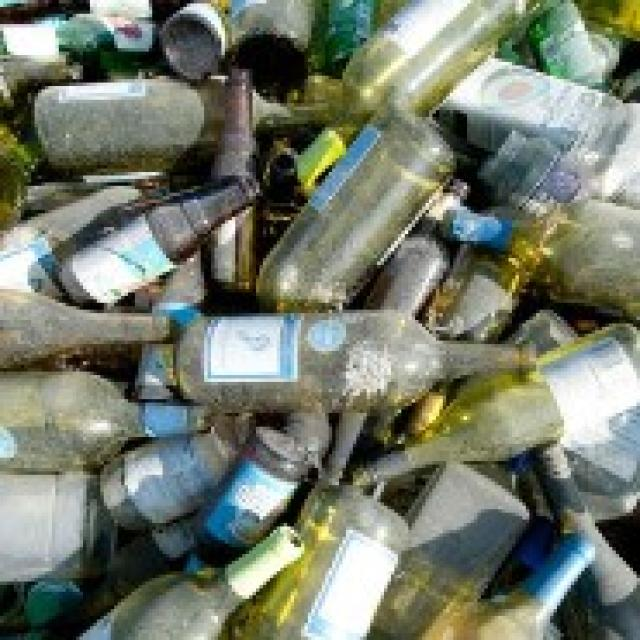electronic: (168, 302, 547, 417), (56, 171, 266, 312), (69, 524, 310, 640), (356, 386, 565, 484), (196, 422, 308, 568)
